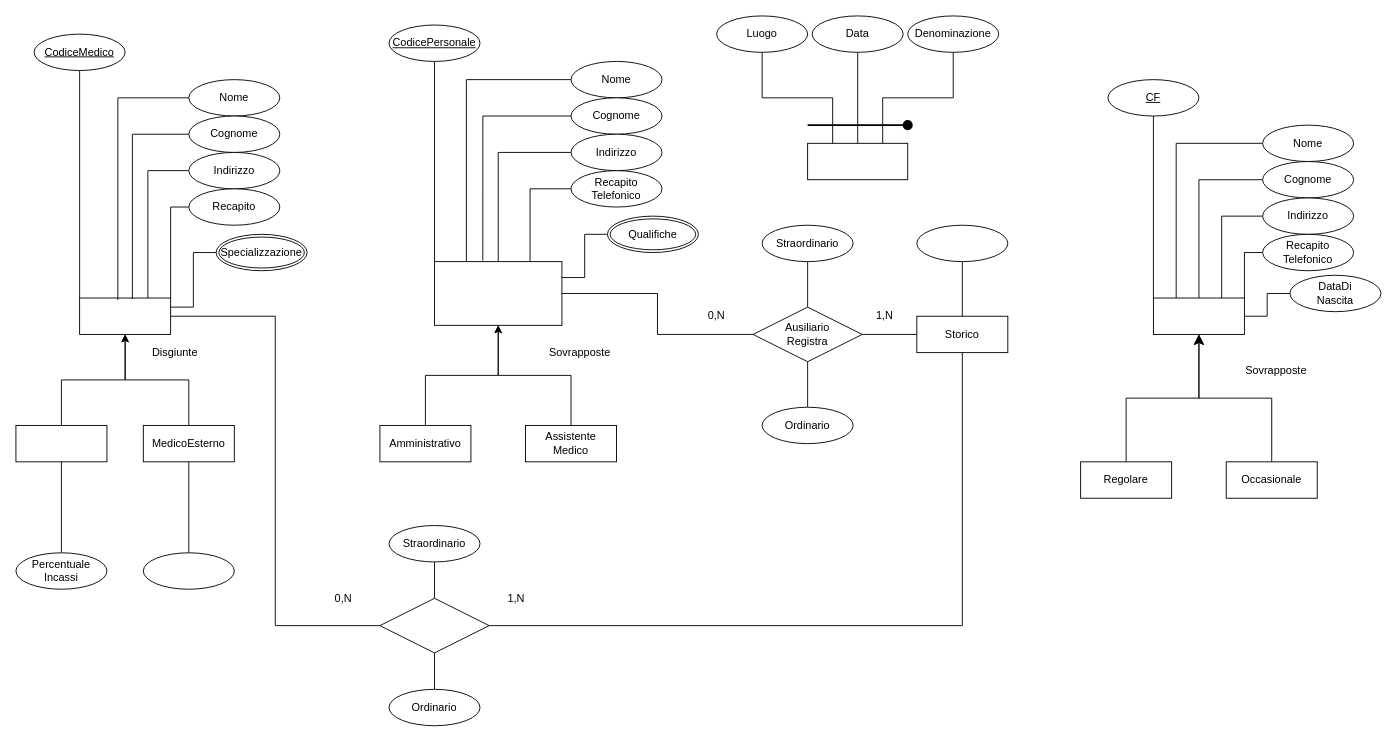
This 1397x742 diagram has some shape labels left out. Each missing label, with the box of its shape:
CorsoDi Aggiornamento: (807, 142, 908, 180)
Medico: (79, 297, 171, 334)
Medico Registra: (379, 597, 489, 653)
MedicoInterno: (15, 425, 107, 462)
Membro Personale Ausiliario: (434, 261, 562, 325)
Mese: (916, 224, 1008, 262)
Paziente: (1153, 297, 1244, 334)
Tariffa Oraria: (142, 552, 234, 589)
